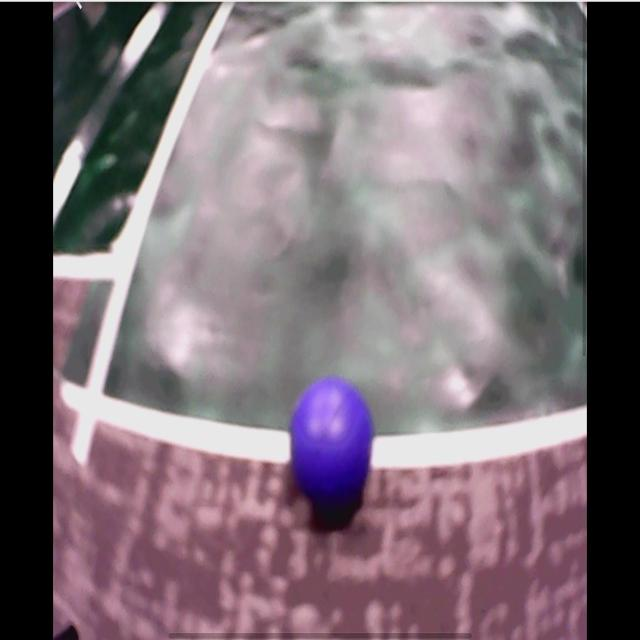ball: (292, 378, 373, 505)
